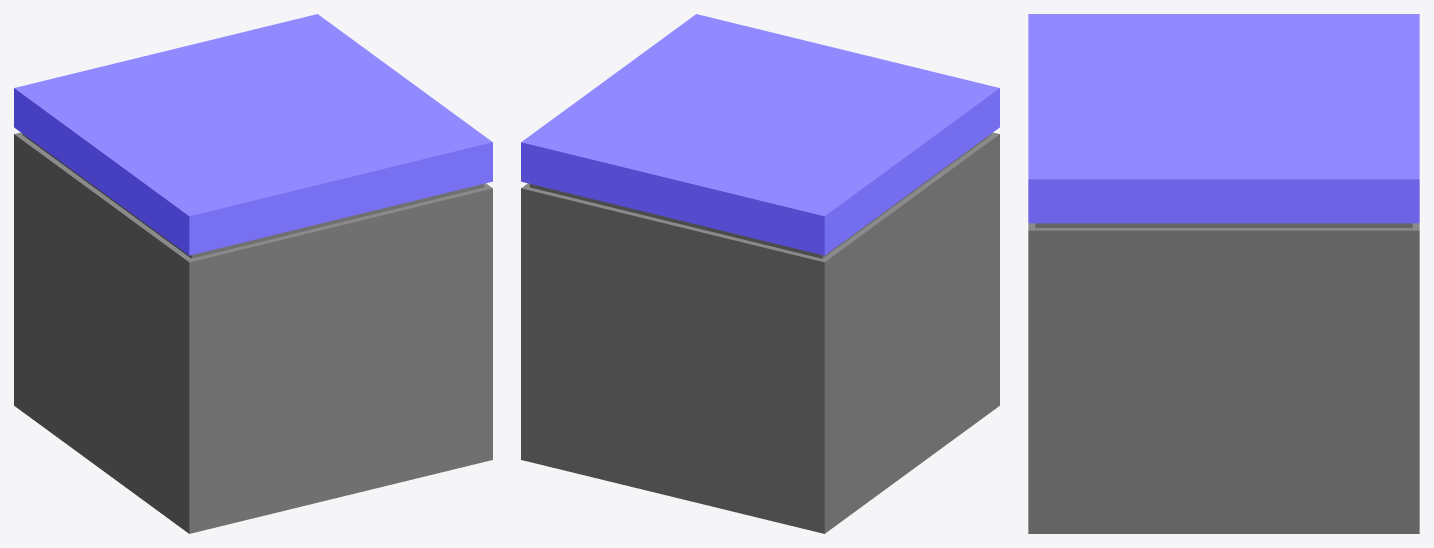
The model's file is холодильна камераUnity.FBX.
The picture shows the model from 3 angles, left to right: view 1: azimuth 30°, elevation 25°; view 2: azimuth 150°, elevation 25°; view 3: azimuth 270°, elevation 25°; orthographic projection. The views are drawn at different scales.
Visible parts, largest first — view 1: Box01, Object01; view 2: Box01, Object01; view 3: Box01, Object01.
Boxes of the visible parts, x1,y1,x2,y2 form: Box01: (14, 132, 492, 533); Object01: (14, 14, 492, 255); Box01: (521, 132, 999, 533); Object01: (521, 14, 999, 255); Box01: (1028, 223, 1419, 533); Object01: (1028, 14, 1419, 223).
Bounding box in the file's own units: 31.5 × 31.5 × 31.5.
